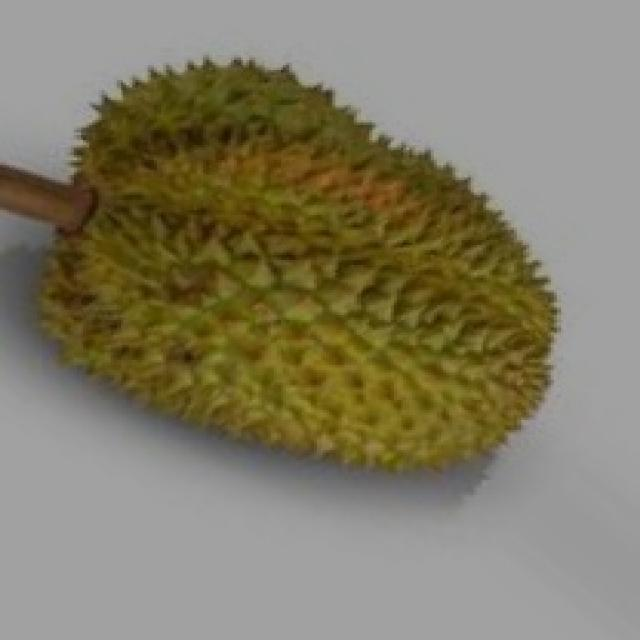fruit: (0, 55, 360, 503), (246, 140, 600, 532)
